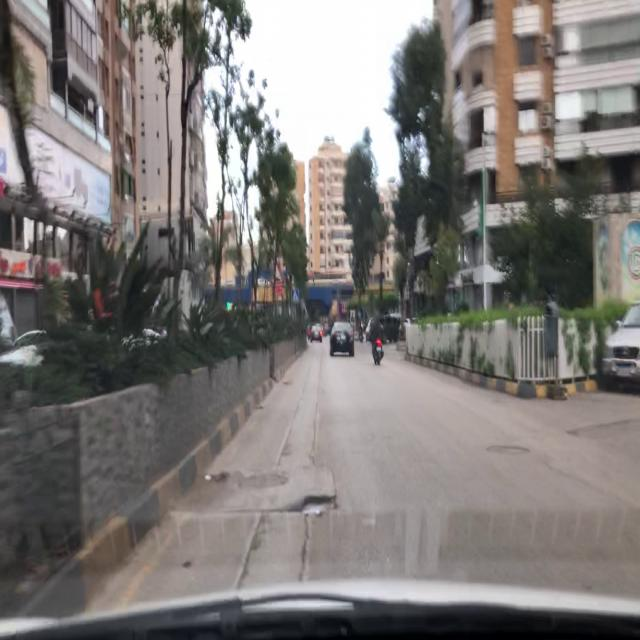Pothole: (290, 490, 341, 519)
